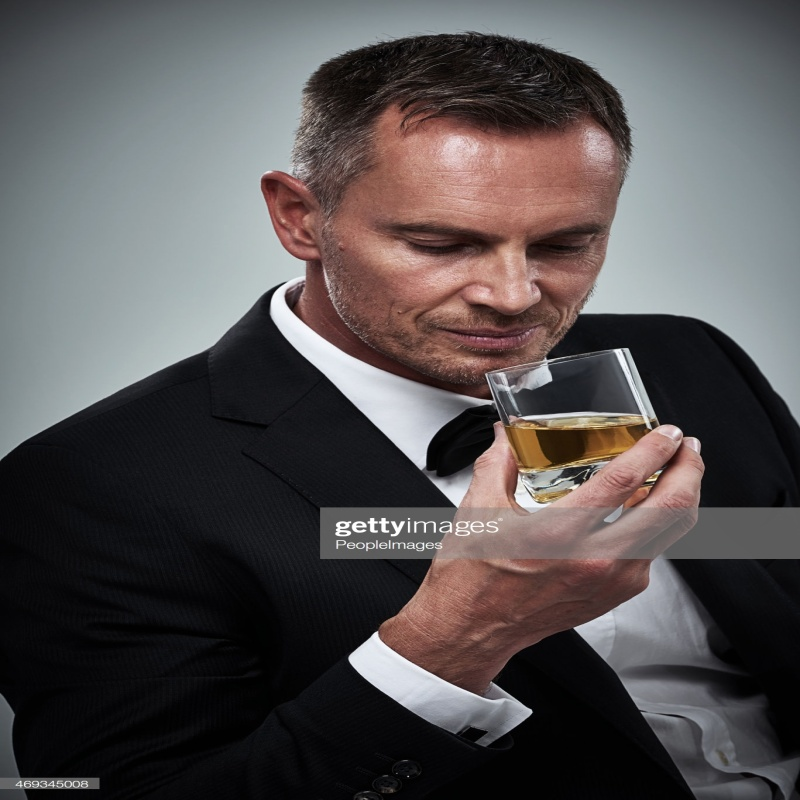whiskey: (476, 358, 670, 488)
